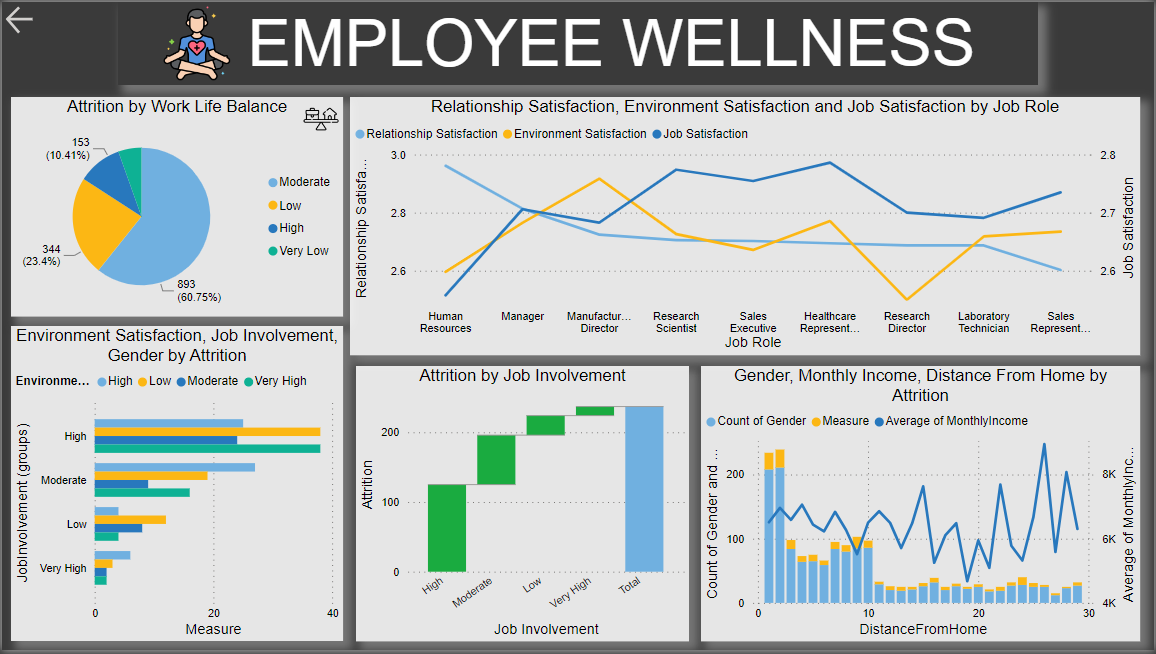

Layout of this report page (visuals, bound fields, positions):
{"tool":"powerbi","page":{"name":"Employee wellness","canvas":[1280,720],"ordinal":4},"visuals":[{"type":"group","id":"g1","title":"Group 1","box":[128.9,0,1022.2,92.2],"z":0},{"type":"shape","box":[128.9,0,1022.2,92.2],"z":0,"group":"g1"},{"type":"image","box":[165.6,0,102.2,92.2],"z":1000},{"type":"textbox","box":[267.8,0,844.4,92.2],"z":1000,"group":"g1"},{"type":"waterfallChart","fields":{"Category":["HR-Employee-Attrition.JobInvolvement (groups)"],"Y":["HR-Employee-Attrition.Measure"]},"box":[393,404.4,370,305.6],"z":2000},{"type":"lineStackedColumnComboChart","title":"Gender, Monthly Income, Distance From Home by Attrition","fields":{"Category":["HR-Employee-Attrition.DistanceFromHome"],"Y":["CountNonNull(HR-Employee-Attrition.Gender)","HR-Employee-Attrition.Measure"],"Y2":["Avg(HR-Employee-Attrition.MonthlyIncome)"]},"box":[776.7,404.4,487.8,305.6],"z":3000},{"type":"clusteredBarChart","title":"Environment Satisfaction, Job Involvement, Gender by Attrition","fields":{"Category":["HR-Employee-Attrition.JobInvolvement (groups)"],"Y":["HR-Employee-Attrition.Measure"],"Series":["HR-Employee-Attrition.EnvironmentSatisfaction (groups)"]},"box":[10,360,368.9,350],"z":4000},{"type":"lineChart","fields":{"Y":["Avg(HR-Employee-Attrition.RelationshipSatisfaction)","Avg(HR-Employee-Attrition.EnvironmentSatisfaction)"],"Category":["HR-Employee-Attrition.JobRole"],"Y2":["Avg(HR-Employee-Attrition.JobSatisfaction)"]},"box":[386.7,105.6,877.8,286.7],"z":4001},{"type":"actionButton","box":[0,0,43.3,40],"z":4002},{"type":"pieChart","title":"Attrition by Work Life Balance","fields":{"Category":["HR-Employee-Attrition.WorkLifeBalance (groups)"],"Y":["CountNonNull(HR-Employee-Attrition.Attrition)"]},"box":[10,105.6,368.9,244.4],"z":4003},{"type":"image","box":[330,105.6,48.9,48.9],"z":4004}]}

Visuals, with their boxes in screenshot pixels (x1, y1, x2, y2), scaled from the page's 1280x720 canvas onto the 1156x654 screenshot:
"Group 1" group: crop(116, 0, 1040, 84)
shape: crop(116, 0, 1040, 84)
image: crop(150, 0, 242, 84)
textbox: crop(242, 0, 1004, 84)
waterfallChart - HR-Employee-Attrition.JobInvolvement (groups) x HR-Employee-Attrition.Measure: crop(355, 367, 689, 645)
"Gender, Monthly Income, Distance From Home by Attrition" lineStackedColumnComboChart: crop(701, 367, 1142, 645)
"Environment Satisfaction, Job Involvement, Gender by Attrition" clusteredBarChart: crop(9, 327, 342, 645)
lineChart - Avg(HR-Employee-Attrition.RelationshipSatisfaction) x Avg(HR-Employee-Attrition.EnvironmentSatisfaction): crop(349, 96, 1142, 356)
actionButton: crop(0, 0, 39, 36)
"Attrition by Work Life Balance" pieChart: crop(9, 96, 342, 318)
image: crop(298, 96, 342, 140)
